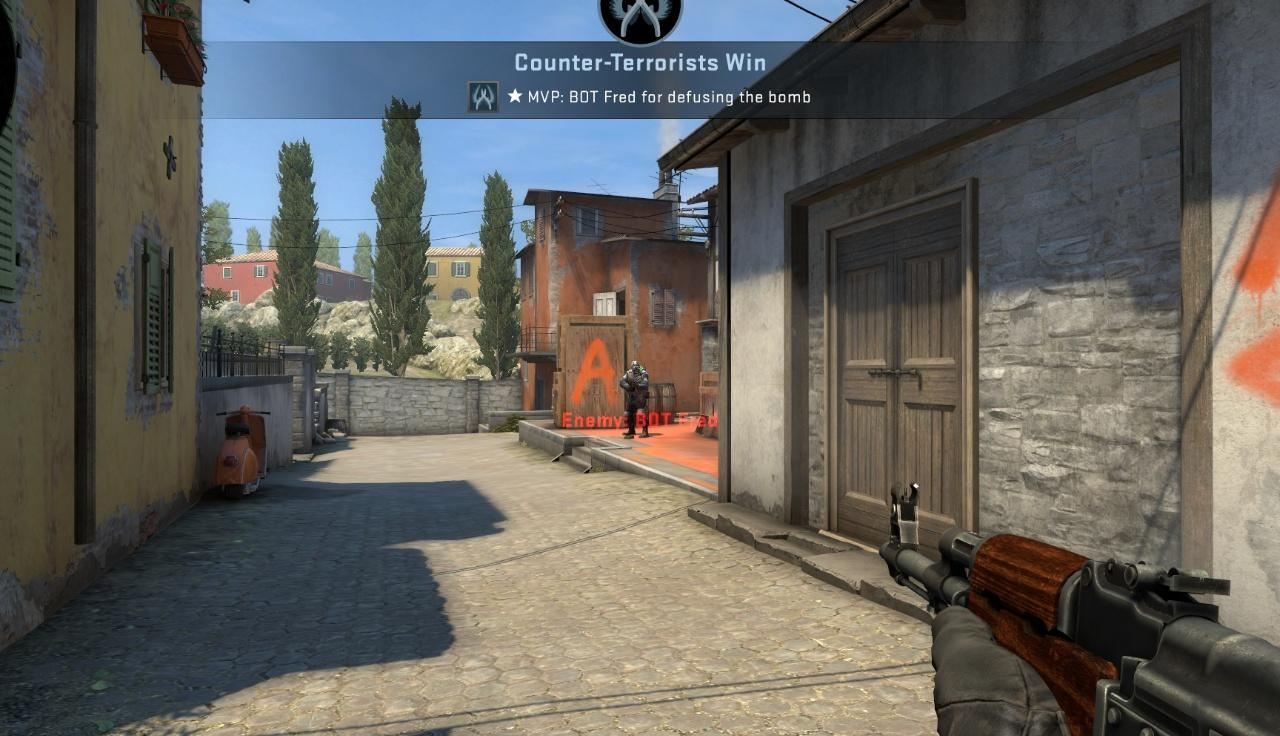ct: (620, 359, 650, 439)
cthead: (630, 360, 641, 374)
rifle: (875, 482, 1280, 733)
